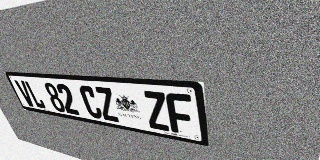2: (55, 83, 80, 115)
8: (42, 82, 67, 113)
C: (78, 85, 104, 120)
F: (165, 92, 195, 136)
L: (24, 81, 47, 109)
V: (14, 80, 36, 107)
Z: (142, 91, 171, 132), (93, 86, 120, 123)
